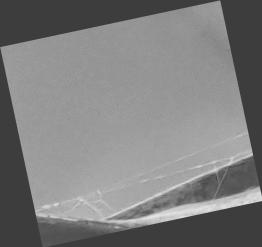crack: (0, 1, 262, 247)
